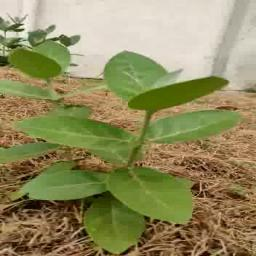CALOTROPIS: (0, 42, 240, 250)
